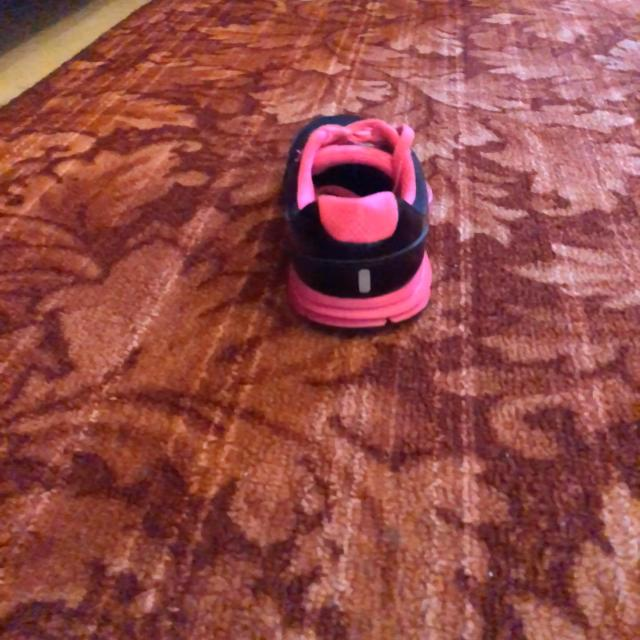shoe: (280, 112, 432, 333)
